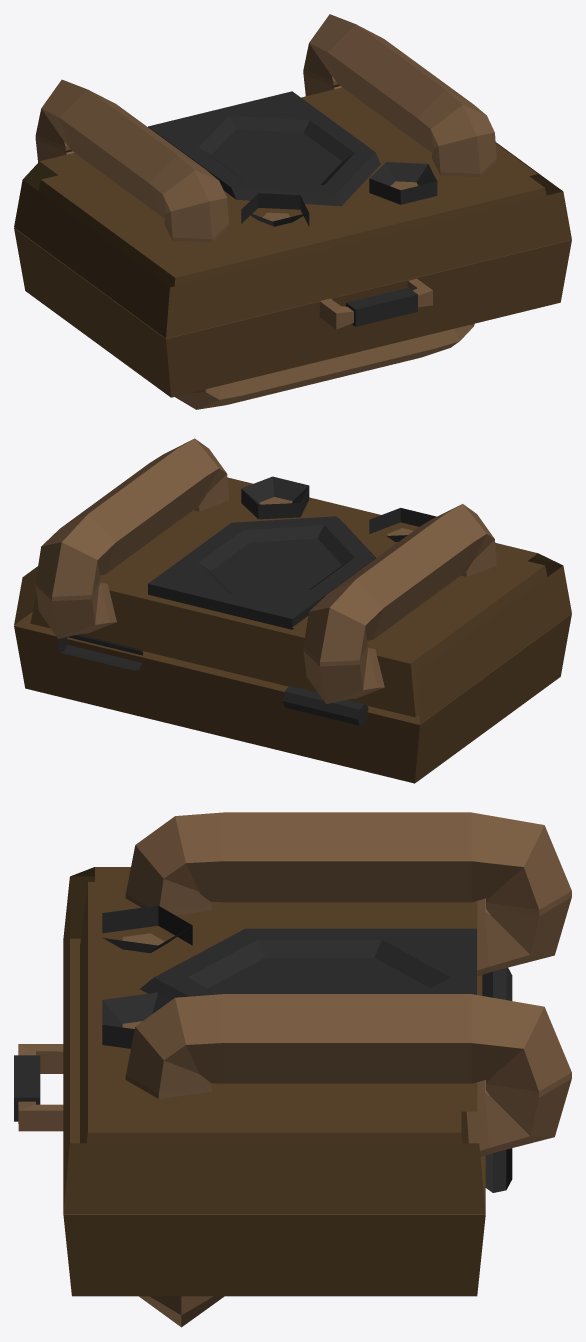
The model's file is suitcase.glb.
The picture shows the model from 3 angles, top to bottom: view 1: azimuth 30°, elevation 25°; view 2: azimuth 150°, elevation 25°; view 3: azimuth 270°, elevation 25°; orthographic projection. The views are drawn at different scales.
Parts seen in each view (by area): view 1: Cube.004, Cylinder.001; view 2: Cube.004, Cylinder.001; view 3: Cube.004, Cylinder.001.
Part boxes in pixels (x1,y1,x2,y2): Cube.004: [14, 14, 571, 338]; Cylinder.001: [14, 228, 571, 409]; Cube.004: [14, 438, 571, 724]; Cylinder.001: [14, 613, 571, 783]; Cube.004: [63, 812, 571, 1213]; Cylinder.001: [14, 967, 512, 1327].
Size of the model in its own units: 6.42 by 3.74 by 5.5.
